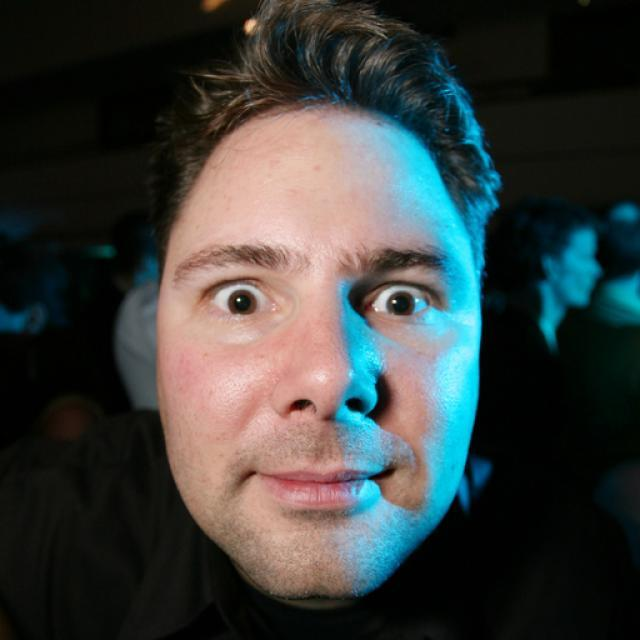surprise: (158, 99, 484, 602)
